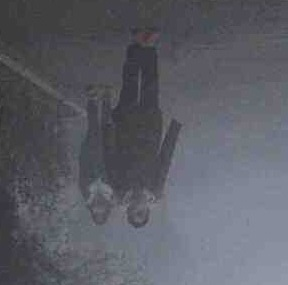person: (115, 26, 183, 228), (73, 82, 122, 228)
